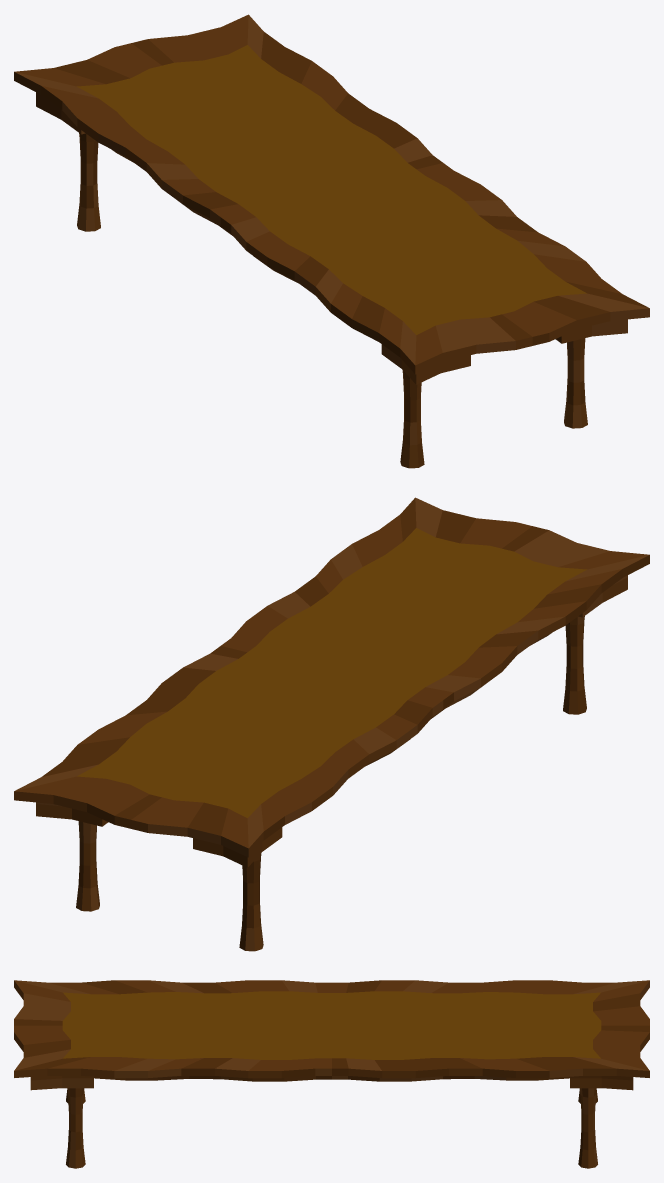
The model's file is castle_town_interior_dinner_table.fbx.
3 views of the same model, one above another, from view 1: azimuth 30°, elevation 25°; view 2: azimuth 150°, elevation 25°; view 3: azimuth 270°, elevation 25° (orthographic). The views are drawn at different scales.
Parts seen in each view (by area): view 1: dining table.001; view 2: dining table.001; view 3: dining table.001.
Boxes of the visible parts, x1=… form: dining table.001: x1=14, y1=14, x2=649, y2=468; dining table.001: x1=14, y1=497, x2=649, y2=951; dining table.001: x1=14, y1=980, x2=649, y2=1168.
Bounding box in the file's own units: 4229 × 786 × 1428.
